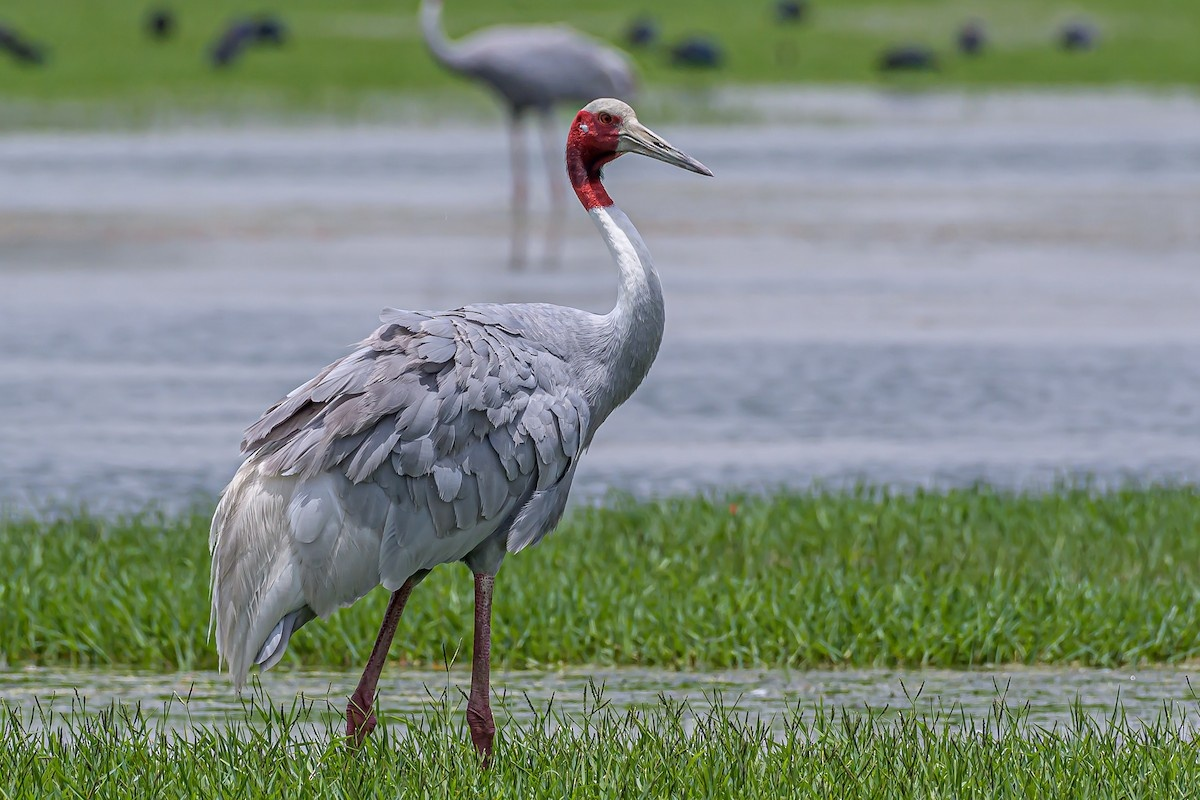crane: (211, 88, 721, 761)
